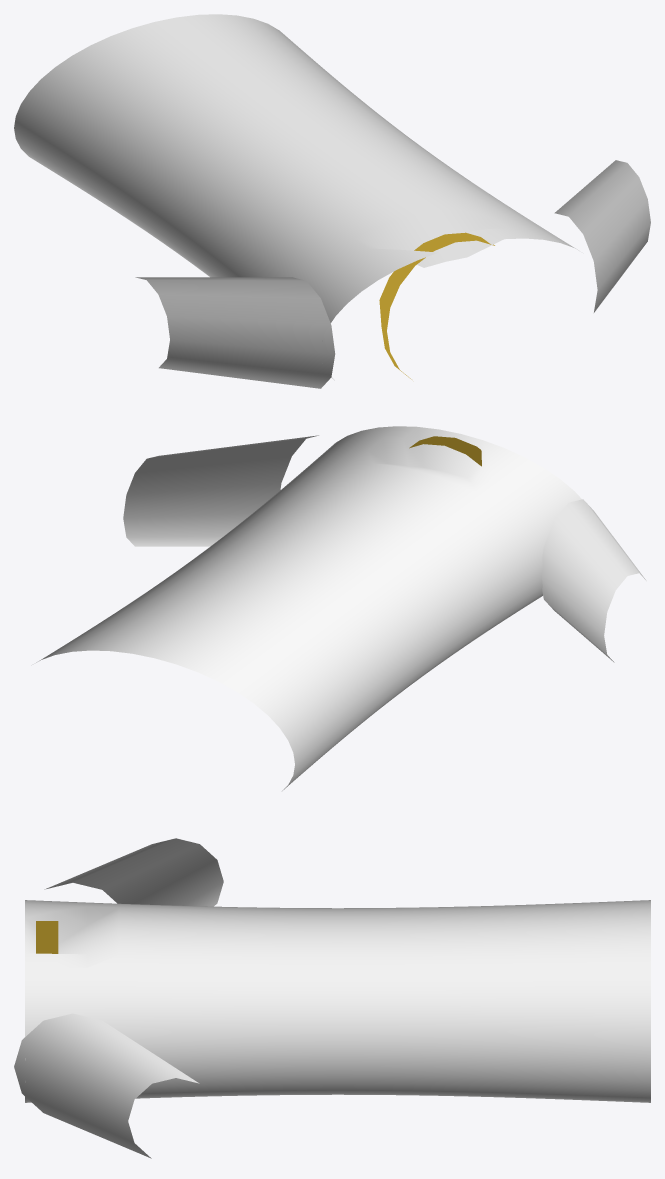
File: vneck-setin.glb
3 views of the same model, one above another, from view 1: azimuth 30°, elevation 25°; view 2: azimuth 150°, elevation 25°; view 3: azimuth 270°, elevation 25° (orthographic). The views are drawn at different scales.
Visible parts, largest first — view 1: Jersey_vneck-setin; view 2: Jersey_vneck-setin; view 3: Jersey_vneck-setin.
Boxes of the visible parts, x1=… form: Jersey_vneck-setin: x1=14, y1=14, x2=650, y2=388; Jersey_vneck-setin: x1=36, y1=426, x2=646, y2=790; Jersey_vneck-setin: x1=14, y1=838, x2=650, y2=1158.
Bounding box in the file's own units: 1.54 × 0.44 × 1.73.
